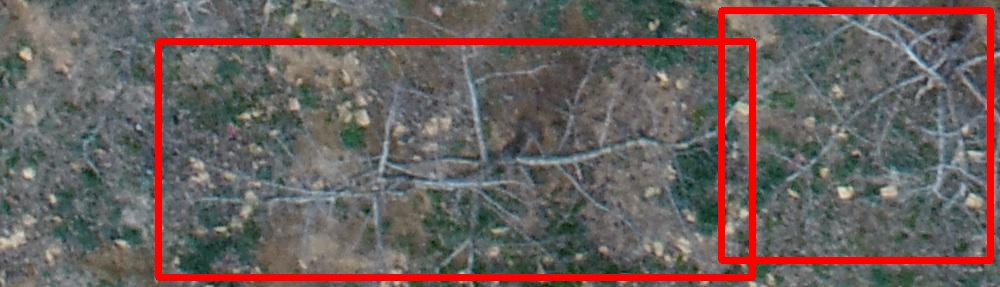apple: (158, 41, 752, 277), (721, 10, 990, 260)
